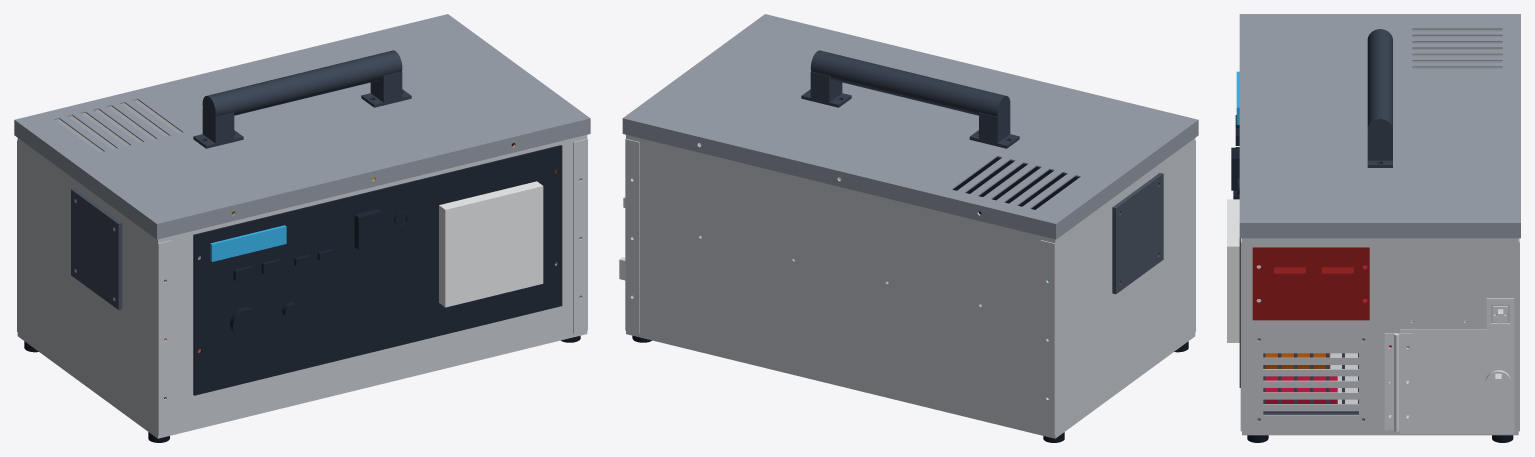
The picture shows the model from 3 angles, left to right: view 1: azimuth 30°, elevation 25°; view 2: azimuth 150°, elevation 25°; view 3: azimuth 270°, elevation 25°; orthographic projection.
Visible parts, largest first — view 1: Lid with exhaust slots, Enclosure body, Output panel (USB-C PD, USB-A, 12 V), AC outlet with RCD, Carry handle and doubler, Exhaust fan, grille and filter, State-of-charge display; view 2: Enclosure body, Lid with exhaust slots, Carry handle and doubler, Exhaust fan, grille and filter, Output panel (USB-C PD, USB-A, 12 V); view 3: Lid with exhaust slots, Enclosure body, Pack bay door, hinge and latch, Input panel (DC in, grid charger in), Carry handle and doubler, AC outlet with RCD, Exhaust fan, grille and filter, Protection plate and fuse block, Output panel (USB-C PD, USB-A, 12 V), DC-DC converter, 48 V to 12 V, Rubber feet.
Part boxes in pixels (bbox=[...]): Lid with exhaust slots: bbox=[14, 14, 590, 239]; Enclosure body: bbox=[17, 100, 587, 438]; Output panel (USB-C PD, USB-A, 12 V): bbox=[193, 145, 562, 395]; AC outlet with RCD: bbox=[439, 181, 543, 307]; Carry handle and doubler: bbox=[193, 50, 411, 148]; Exhaust fan, grille and filter: bbox=[71, 188, 579, 309]; State-of-charge display: bbox=[210, 225, 286, 261]; Enclosure body: bbox=[625, 135, 1195, 438]; Lid with exhaust slots: bbox=[622, 14, 1198, 239]; Carry handle and doubler: bbox=[801, 50, 1019, 148]; Exhaust fan, grille and filter: bbox=[1112, 173, 1163, 294]; Output panel (USB-C PD, USB-A, 12 V): bbox=[953, 157, 1079, 214]; Lid with exhaust slots: bbox=[1239, 14, 1520, 238]; Enclosure body: bbox=[1240, 29, 1519, 435]; Pack bay door, hinge and latch: bbox=[1384, 298, 1514, 433]; Input panel (DC in, grid charger in): bbox=[1252, 247, 1369, 320]; Carry handle and doubler: bbox=[1367, 29, 1392, 167]; AC outlet with RCD: bbox=[1227, 199, 1261, 342]; Exhaust fan, grille and filter: bbox=[1257, 338, 1364, 420]; Protection plate and fuse block: bbox=[1265, 265, 1391, 403]; Output panel (USB-C PD, USB-A, 12 V): bbox=[1231, 115, 1240, 387]; DC-DC converter, 48 V to 12 V: bbox=[1265, 353, 1330, 368]; Rubber feet: bbox=[1247, 435, 1513, 442].
Bounding box in the file's own units: 0.4802 × 0.2752 × 0.2762.
